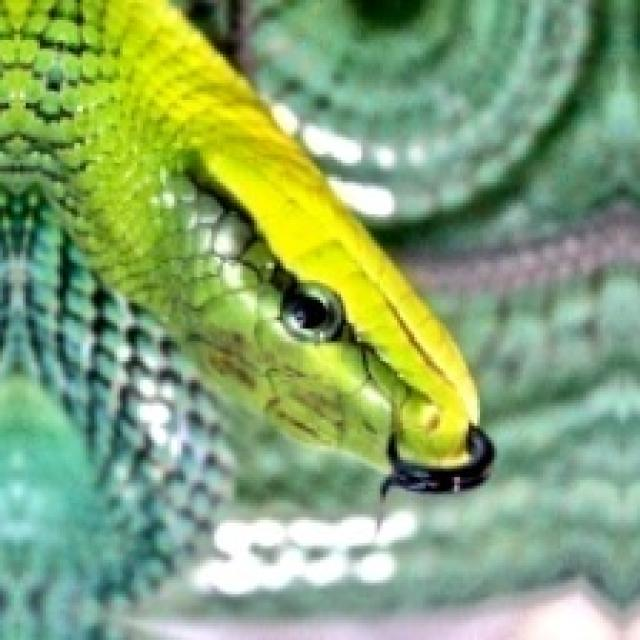red-tailed green ratsnake: (0, 0, 491, 540)
